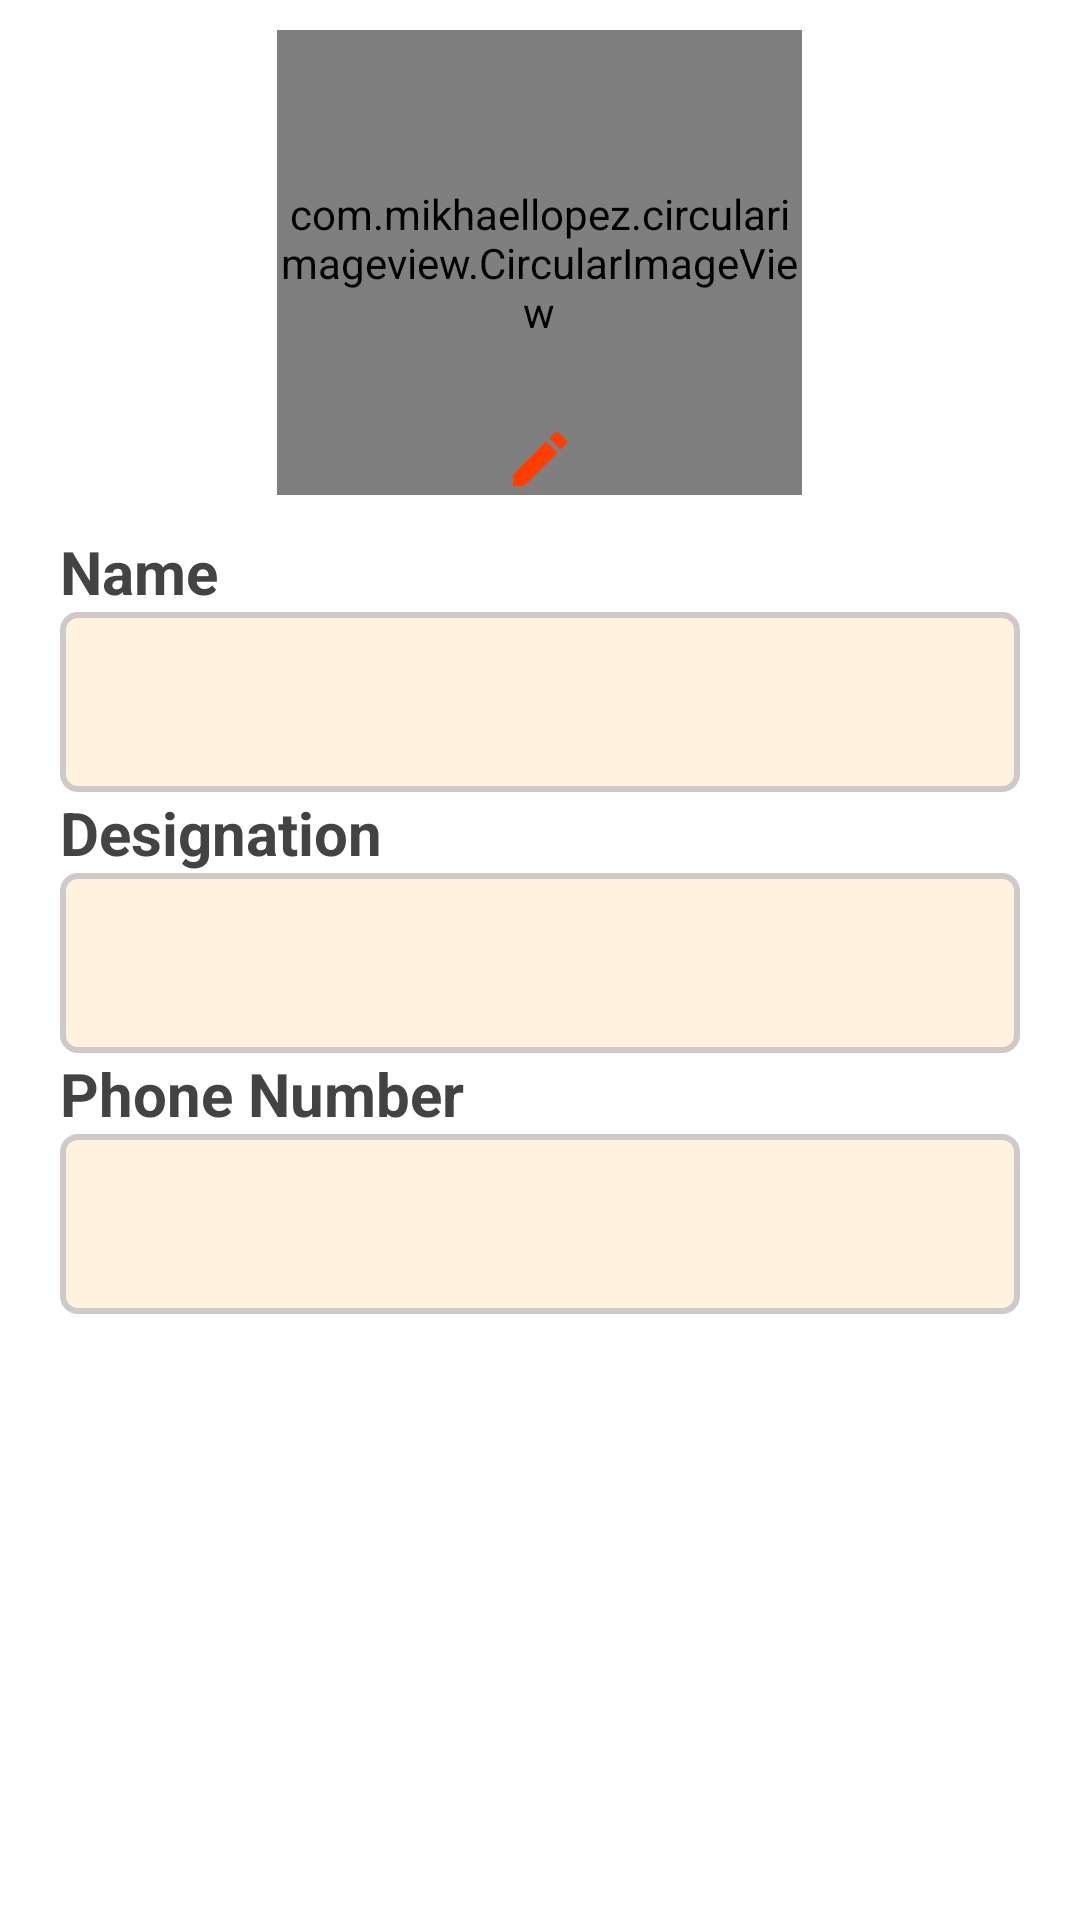

Named icons in this screenshot (1080w x 1920h) and their centers, [x,y]:
edit: [540,459]
